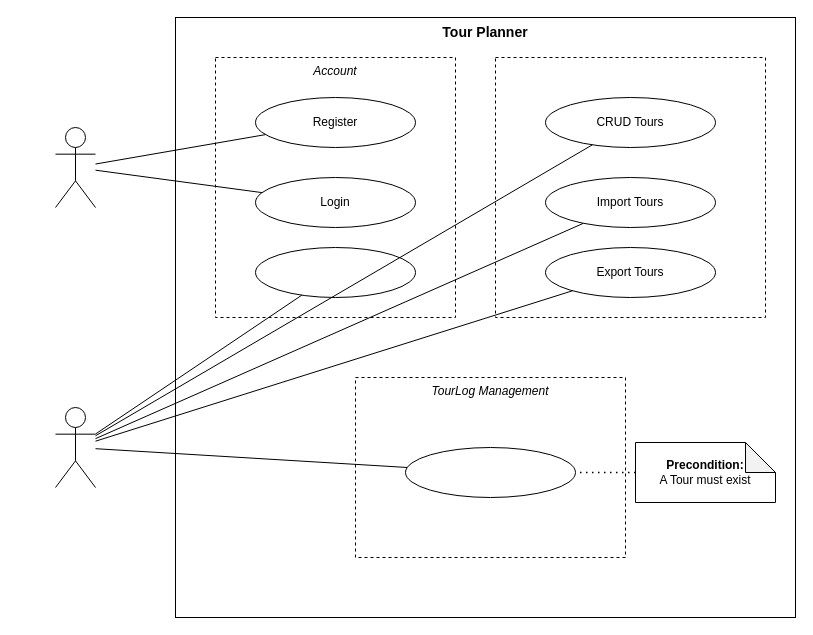
The diagram is 813 pixels wide and 635 high, and some of its shapes have lost their labels. Each missing label, with the box of its shape:
Authenticated User: (54, 406, 96, 488)
CRUD TourLogs: (404, 446, 576, 498)
Logout: (254, 246, 416, 298)
Tour Management: (494, 56, 766, 318)
Unauthenticated User: (54, 126, 96, 208)
